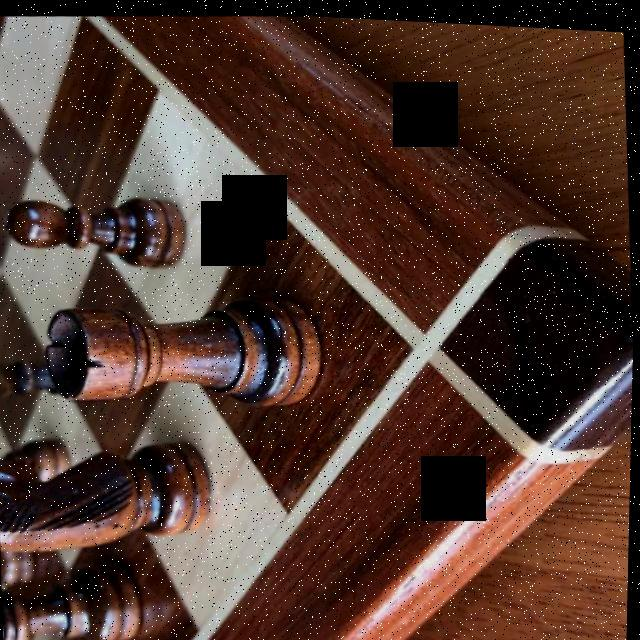chess-table-corners: (368, 299, 446, 389)
